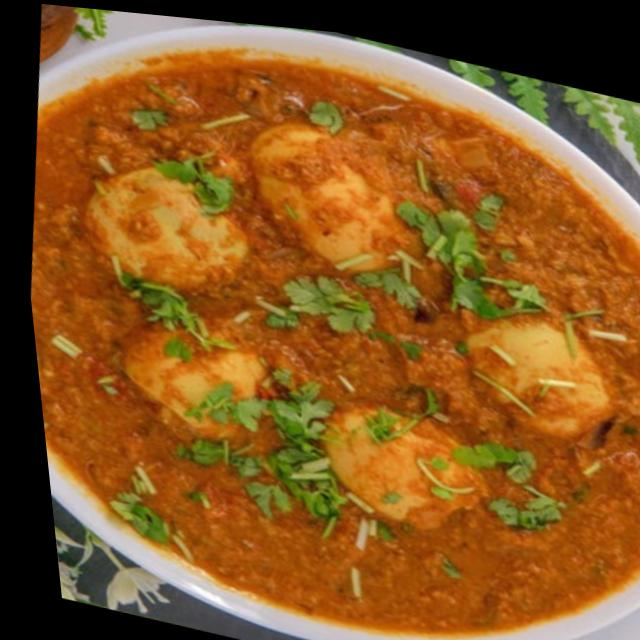EGG: (75, 61, 640, 550)
